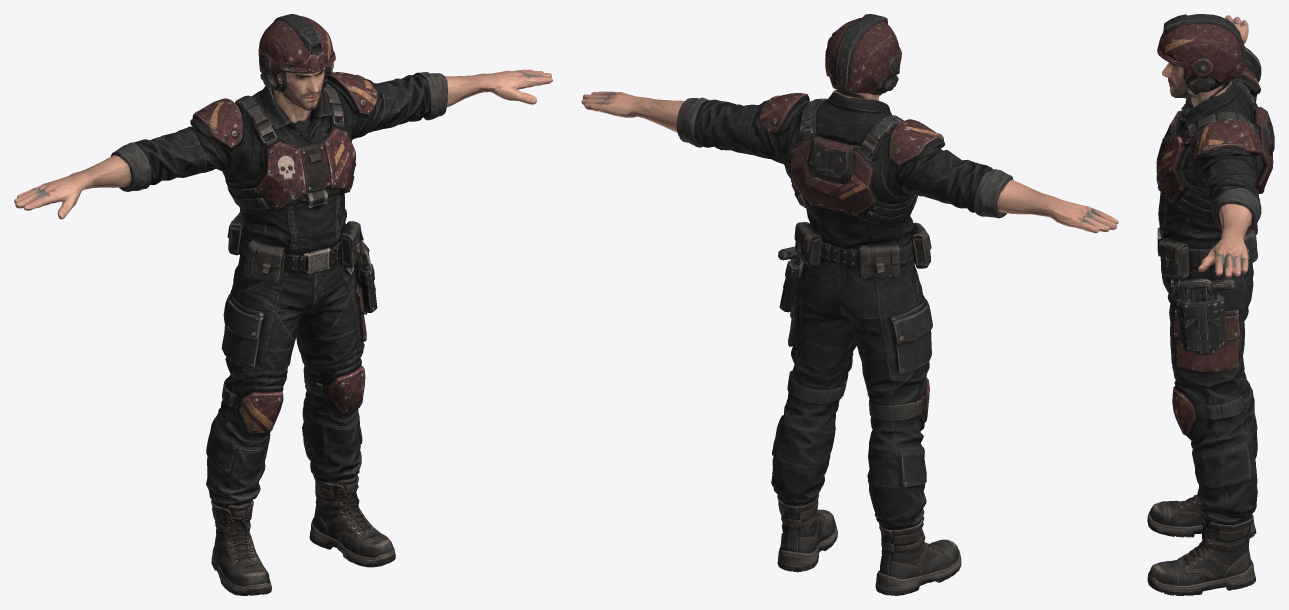
Rendered from aeon-raider.glb.
The picture shows the model from 3 angles, left to right: view 1: azimuth 30°, elevation 25°; view 2: azimuth 150°, elevation 25°; view 3: azimuth 270°, elevation 25°; orthographic projection.
Parts seen in each view (by area): view 1: mesh_node; view 2: mesh_node; view 3: mesh_node.
Part boxes in pixels (x1=…): mesh_node: x1=14, y1=14, x2=552, y2=595; mesh_node: x1=581, y1=14, x2=1118, y2=595; mesh_node: x1=1147, y1=14, x2=1274, y2=595.
Bounding box in the file's own units: 1.9 × 1.85 × 0.3934.
1 material, 1 textured.
